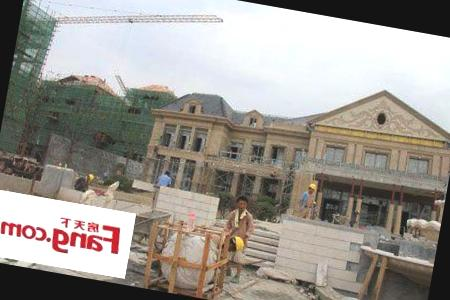no_helmet: (232, 192, 252, 214)
